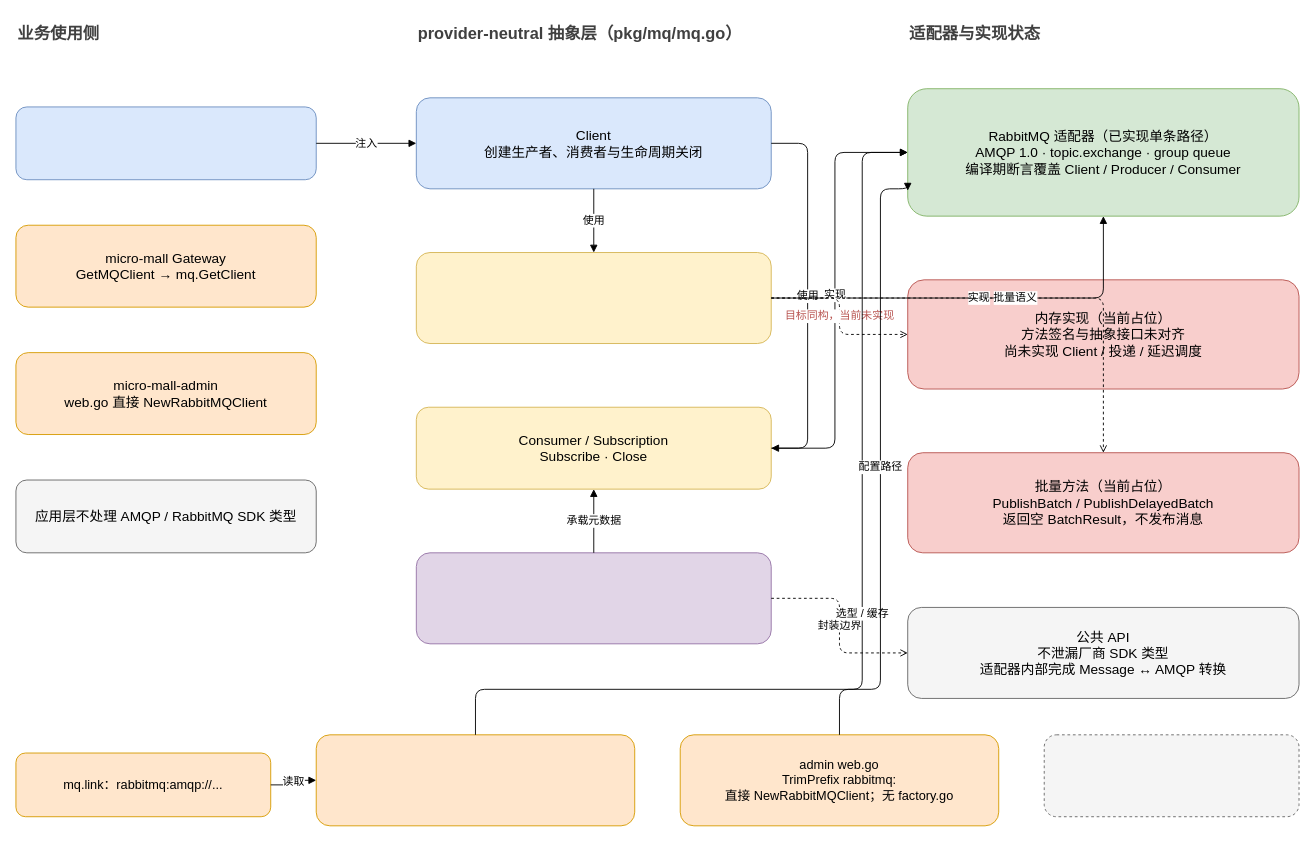
Image size: 1315x842. Some labels were removed from this diagram. Each missing label, with the centre of its shape:
"Kafka：当前未实现 延迟、重试、批量语义需另行适配" goes at pixel 1171 775.
"Message / Delivery / ConsumeResult Ack · Retry · Reject · Attempt" goes at pixel 593 598.
"micro-mall factory.GetClient 按前缀选型 + 包级缓存懒初始化 local 分支仍为注释占位" goes at pixel 475 780.
"Producer / DelayedProducer Publish · PublishBatch · 延迟发布" goes at pixel 593 298.
"业务服务 只依赖 Client / Producer / Consumer" goes at pixel 165 143.
